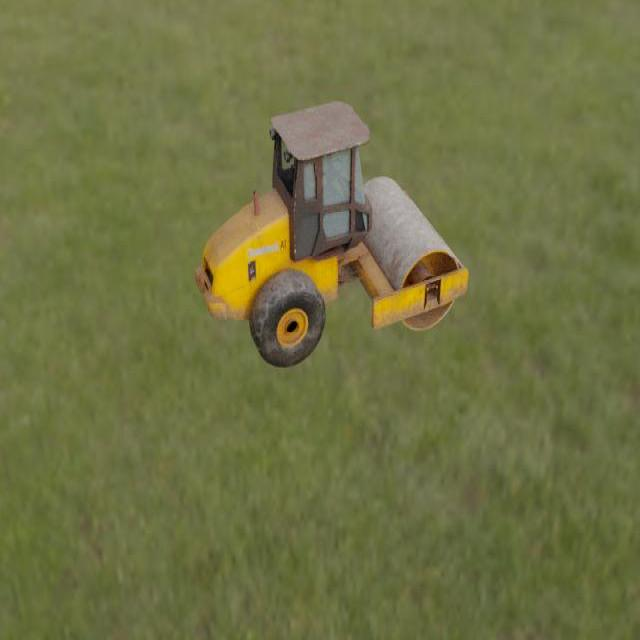Roller: (193, 100, 468, 368)
